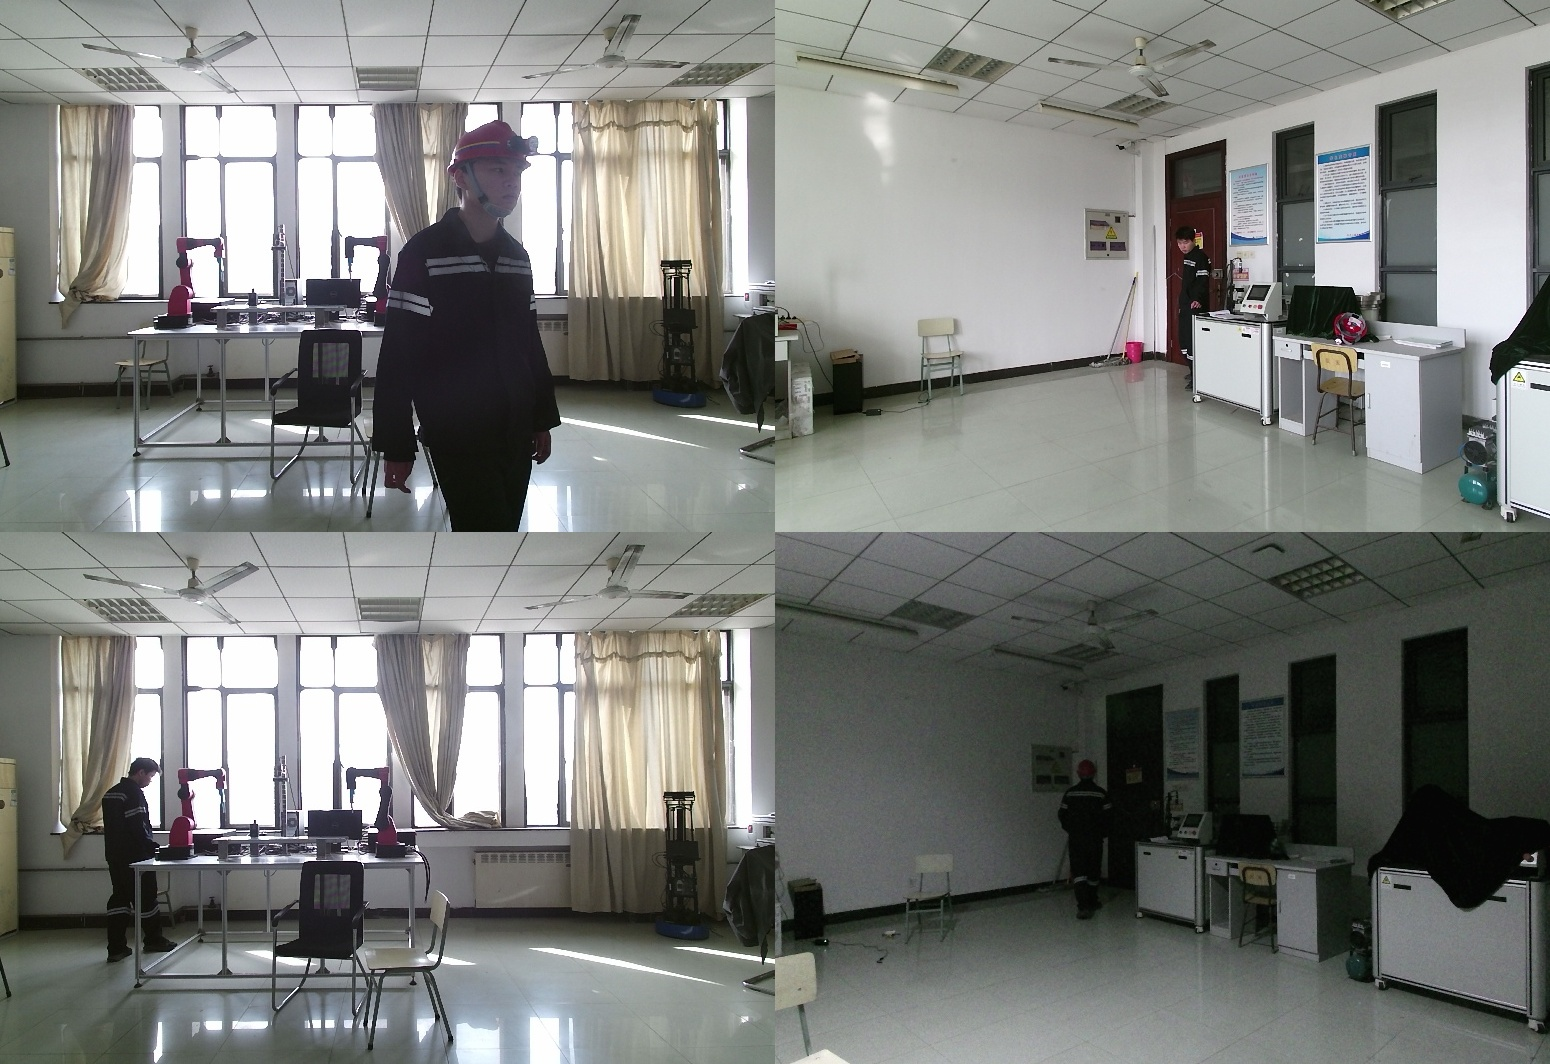person: (383, 121, 571, 532), (94, 757, 177, 963), (1059, 762, 1120, 924), (1176, 230, 1220, 318)
